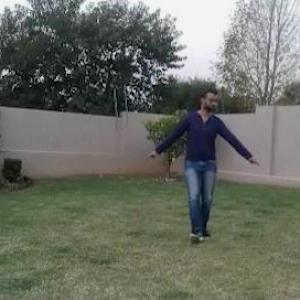land: (132, 74, 272, 257)
